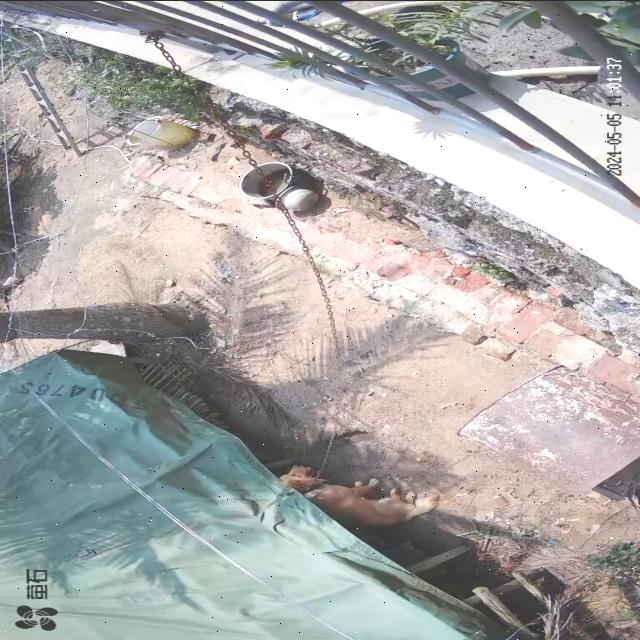dog: (279, 465, 443, 529)
